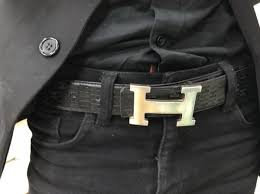F_belt: (25, 61, 260, 137)
